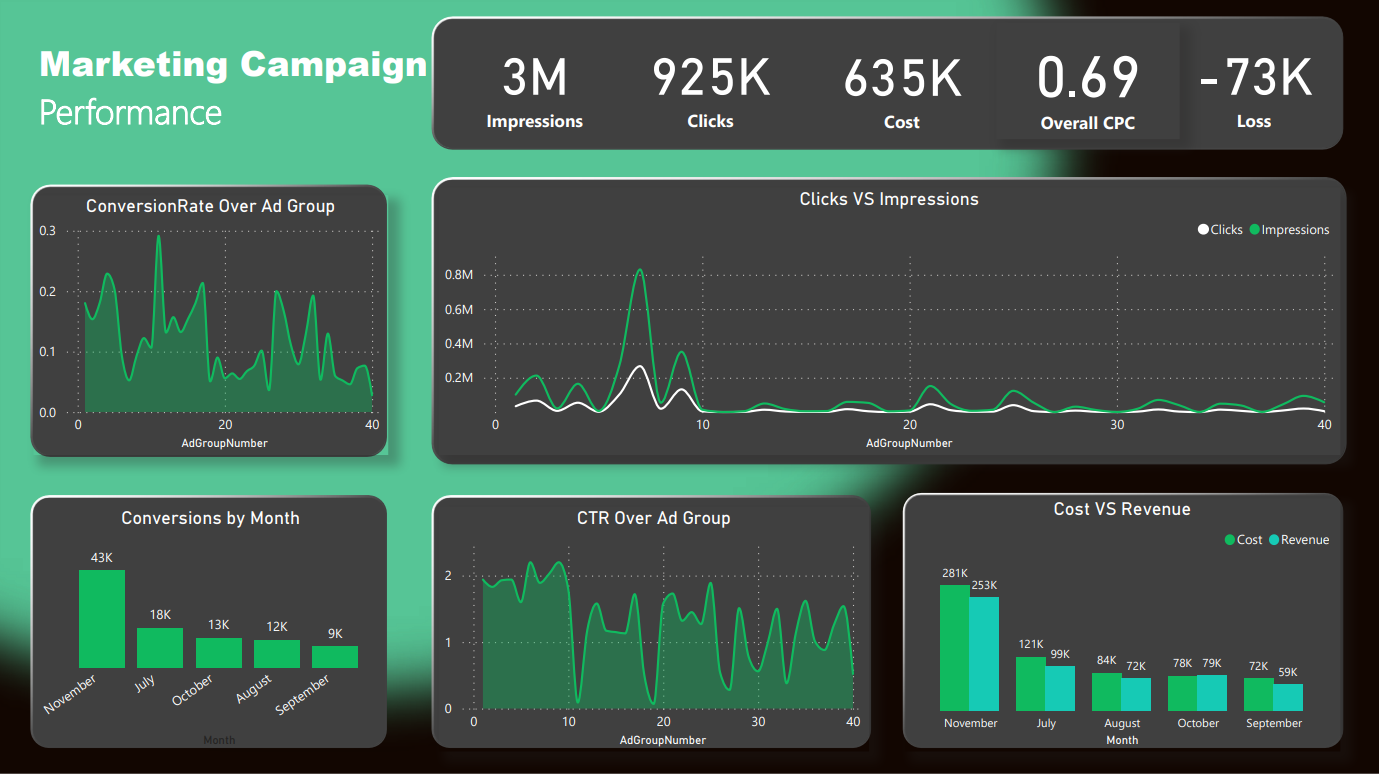

The dashboard page shown, as its layout file describes it:
{"tool":"powerbi","page":{"name":"Page 1","canvas":[1280,720],"ordinal":0},"visuals":[{"type":"lineChart","title":"Clicks VS Impressions","fields":{"Category":["final_shop.AdGroupNumber"],"Y":["Sum(final_shop.Clicks)"],"Y2":["Sum(final_shop.Impressions)"]},"box":[409.4,176.1,835.4,247.5],"z":0},{"type":"areaChart","title":"CTR Over Ad Group","fields":{"Category":["final_shop.AdGroupNumber"],"Y":["Sum(final_shop.CTR)"]},"box":[409.4,472.5,398.7,226.1],"z":1000},{"type":"areaChart","title":"ConversionRate Over Ad Group ","fields":{"Category":["final_shop.AdGroupNumber"],"Y":["final_shop.ConversionRate"]},"box":[33.3,183.3,328.5,240.4],"z":3000},{"type":"clusteredColumnChart","title":"Conversions by Month","fields":{"Category":["final_shop.Month"],"Y":["Sum(final_shop.Conversions)"]},"box":[33.3,472.5,328.5,226.1],"z":3500},{"type":"clusteredColumnChart","title":"Cost VS Revenue ","fields":{"Y":["Sum(final_shop.Cost)","Sum(final_shop.Revenue)"],"Category":["final_shop.Month"]},"box":[841.4,464.1,403.4,234.4],"z":4000},{"type":"card","fields":{"Values":["Sum(final_shop.Clicks)"]},"box":[578.4,23.8,170.2,108.3],"z":5000},{"type":"card","title":"Impressions","fields":{"Values":["Sum(final_shop.Impressions)"]},"box":[407,23.8,170.2,108.3],"z":6000},{"type":"card","fields":{"Values":["final_shop.Overall CPC"]},"box":[918.7,22.6,170.2,108.3],"z":9000},{"type":"card","fields":{"Values":["Sum(final_shop.Cost)"]},"box":[743.8,25,170.2,108.3],"z":10000},{"type":"card","fields":{"Values":["Sum(final_shop.P&L)"]},"box":[1072.3,23.8,185.7,108.3],"z":11000},{"type":"textbox","box":[33.3,32.1,391.5,100],"z":11001}]}

Visuals, with their boxes in screenshot pixels (x1, y1, x2, y2), scaled from the page's 1280x720 canvas onto the 1380x774 screenshot:
"Clicks VS Impressions" lineChart: region(441, 189, 1342, 455)
"CTR Over Ad Group" areaChart: region(441, 508, 871, 751)
"ConversionRate Over Ad Group " areaChart: region(36, 197, 390, 455)
"Conversions by Month" clusteredColumnChart: region(36, 508, 390, 751)
"Cost VS Revenue " clusteredColumnChart: region(907, 499, 1342, 751)
card - Sum(final_shop.Clicks): region(624, 26, 807, 142)
"Impressions" card: region(439, 26, 622, 142)
card - final_shop.Overall CPC: region(990, 24, 1174, 141)
card - Sum(final_shop.Cost): region(802, 27, 985, 143)
card - Sum(final_shop.P&L): region(1156, 26, 1356, 142)
textbox: region(36, 35, 458, 142)
